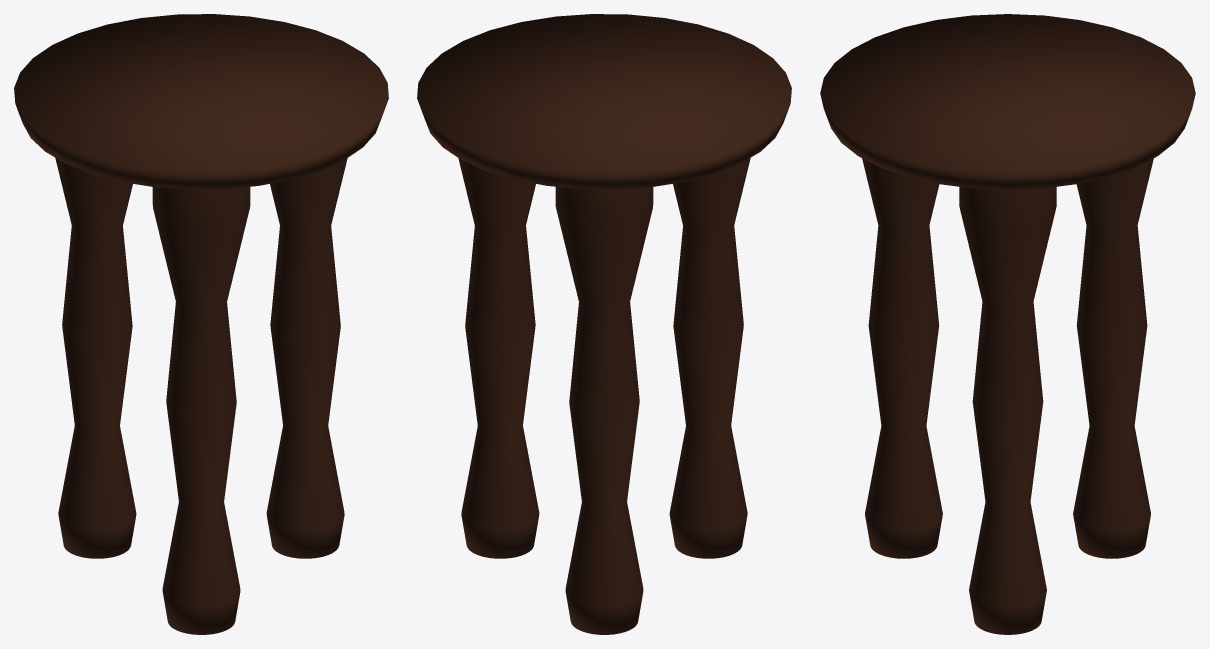
Rendered from Plant_Stand.fbx.
The picture shows the model from 3 angles, left to right: view 1: azimuth 30°, elevation 25°; view 2: azimuth 150°, elevation 25°; view 3: azimuth 270°, elevation 25°; orthographic projection.
Parts seen in each view (by area): view 1: Round top.001, Turned leg.026, Turned leg.024, Turned leg.025; view 2: Round top.001, Turned leg.025, Turned leg.024, Turned leg.026; view 3: Round top.001, Turned leg.024, Turned leg.025, Turned leg.026.
Part boxes in pixels (left/top/right/bottom): Round top.001: left=14, top=14, right=388, bottom=189; Turned leg.026: left=152, top=186, right=250, bottom=634; Turned leg.024: left=266, top=158, right=347, bottom=558; Turned leg.025: left=55, top=158, right=136, bottom=558; Round top.001: left=417, top=14, right=791, bottom=189; Turned leg.025: left=555, top=186, right=653, bottom=634; Turned leg.024: left=458, top=158, right=539, bottom=558; Turned leg.026: left=669, top=158, right=750, bottom=558; Round top.001: left=820, top=14, right=1195, bottom=189; Turned leg.024: left=959, top=187, right=1056, bottom=634; Turned leg.025: left=1073, top=158, right=1153, bottom=558; Turned leg.026: left=862, top=158, right=942, bottom=558.
Size of the model in its own units: 0.5 by 0.7 by 0.5.
